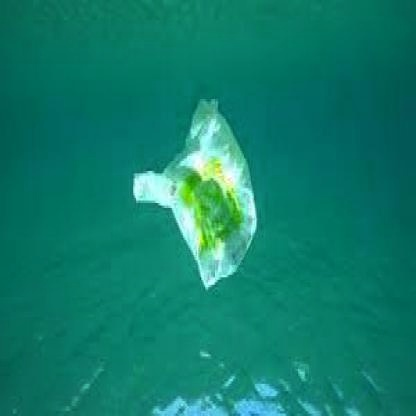pbag: (132, 96, 258, 290)
